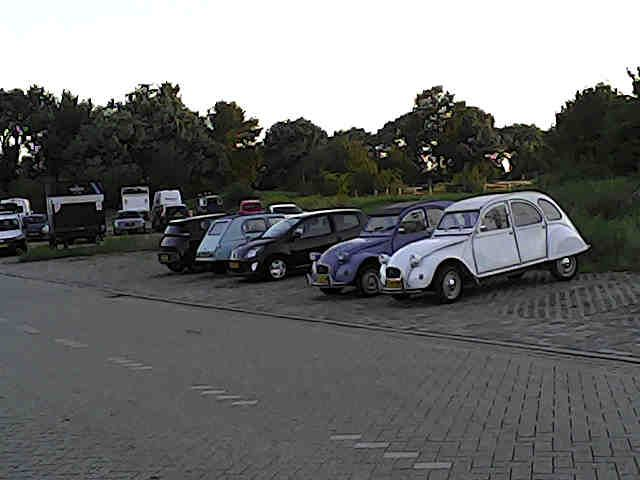suv: (380, 191, 588, 302), (307, 200, 452, 295), (228, 209, 366, 279), (196, 213, 283, 271), (46, 182, 106, 247), (158, 213, 224, 272), (150, 189, 187, 230), (0, 211, 27, 254), (152, 204, 190, 230), (121, 186, 149, 219), (112, 210, 146, 235), (22, 213, 48, 239), (0, 197, 31, 218), (196, 192, 224, 214), (267, 203, 303, 217), (237, 199, 265, 214)
whitevan: (150, 189, 187, 230), (152, 204, 191, 230), (152, 189, 181, 209)
